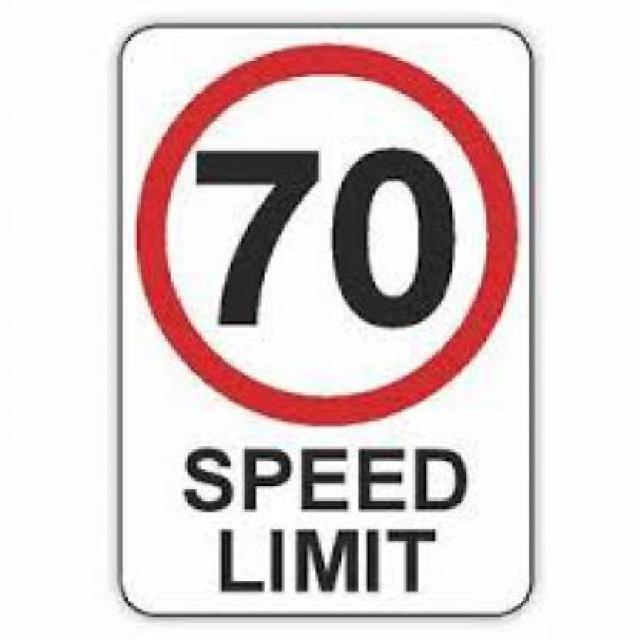forb_speed_over_70: (142, 52, 509, 410)
